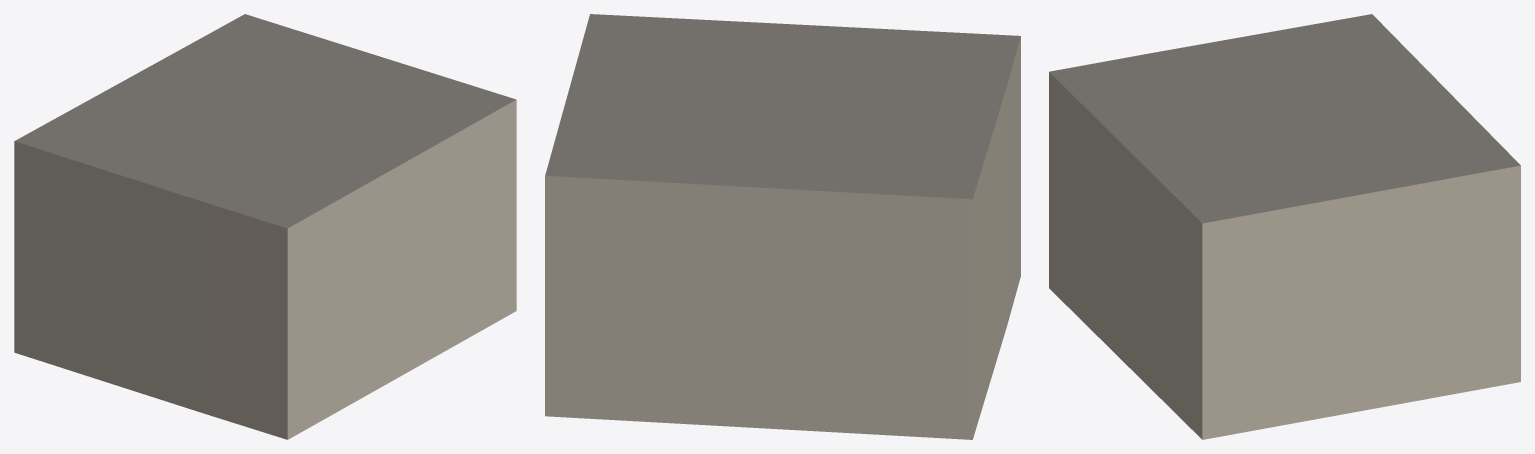
3 renders of one model, left to right at view 1: azimuth 30°, elevation 25°; view 2: azimuth 150°, elevation 25°; view 3: azimuth 270°, elevation 25°, orthographic. The views are drawn at different scales.
Parts seen in each view (by area): view 1: HP-w1324024089; view 2: HP-w1324024089; view 3: HP-w1324024089.
Part boxes in pixels (x1,y1,x2,y2): HP-w1324024089: [14, 14, 516, 439]; HP-w1324024089: [545, 14, 1020, 439]; HP-w1324024089: [1049, 14, 1520, 439].
Bounding box in the file's own units: 24.9 × 12 × 23.7.
